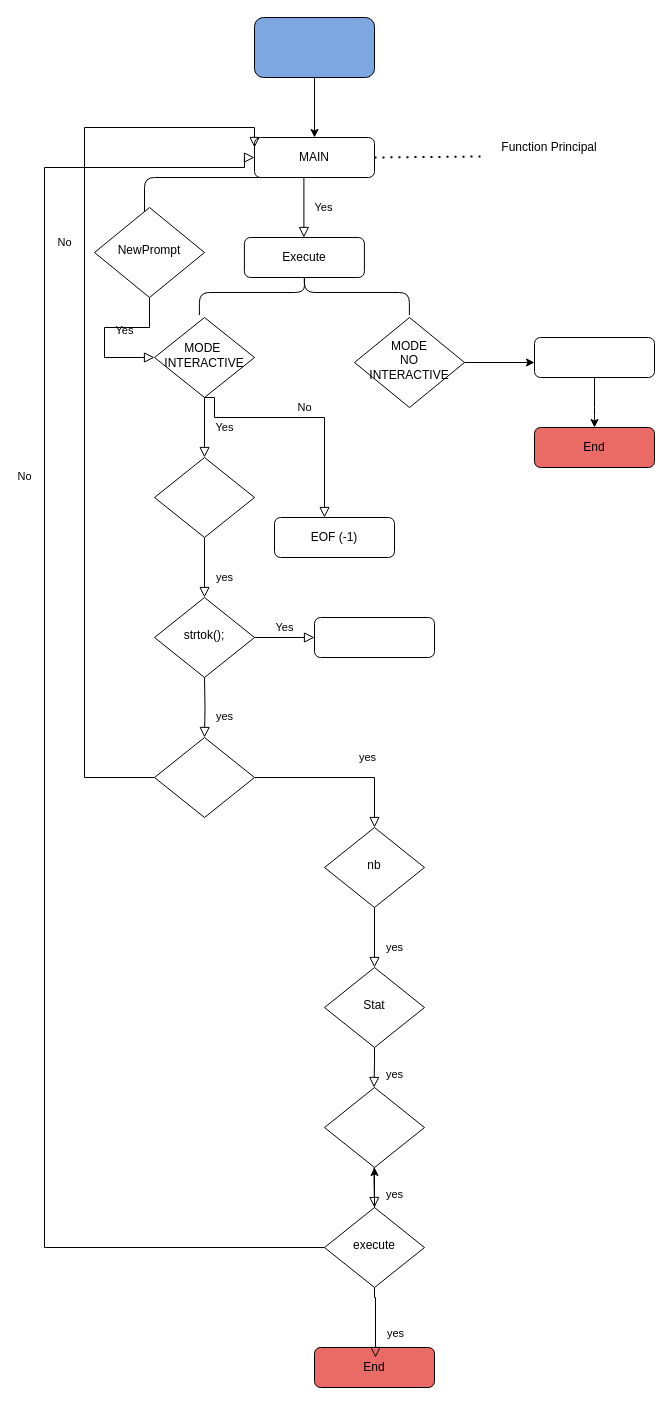
Image size: 672x1405. Some labels were removed from this diagram. The shapes that lost their labels are listed below. From the top down, each one's centre as x and y in pixels, then its label:
At pixel 314 47: "START".
At pixel 594 357: "Break".
At pixel 204 497: "Get_Commands".
At pixel 374 637: "Split".
At pixel 204 777: "bult-in".
At pixel 374 1127: "fork".
